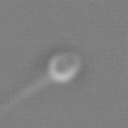normal: (1, 76, 49, 120)
